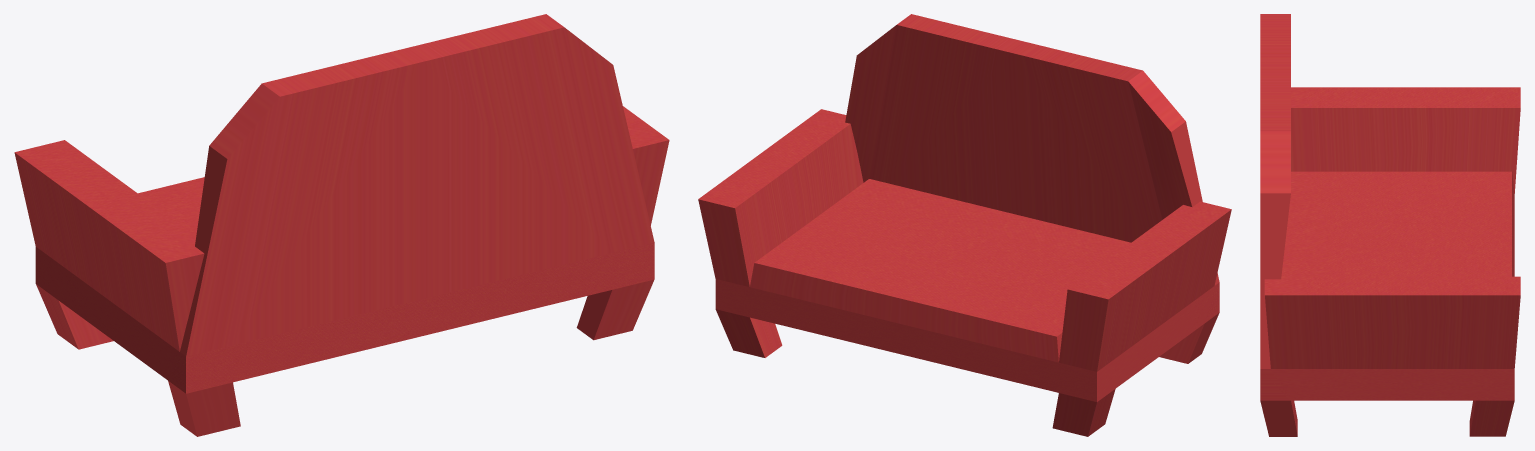
Rendered from long_couch.fbx.
The picture shows the model from 3 angles, left to right: view 1: azimuth 30°, elevation 25°; view 2: azimuth 150°, elevation 25°; view 3: azimuth 270°, elevation 25°; orthographic projection. The views are drawn at different scales.
Parts seen in each view (by area): view 1: long couch; view 2: long couch; view 3: long couch.
Part boxes in pixels (box(x1,y1,x2,y2)): long couch: box(14, 14, 669, 436); long couch: box(698, 14, 1231, 436); long couch: box(1260, 14, 1520, 436).
Bounding box in the file's own units: 166 × 102 × 87.78.
